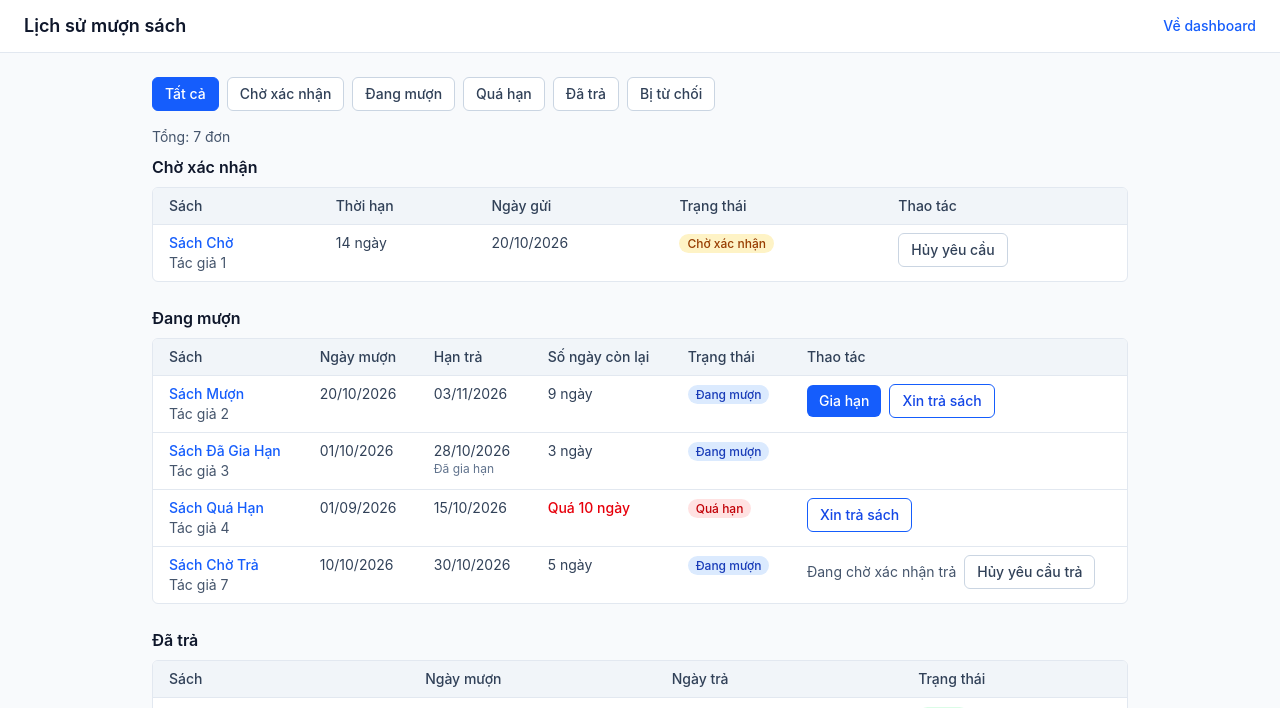
BorrowHistoryPage (2.3.3) › hủy yêu cầu chờ xác nhận sau khi hỏi lại
The width and height of the screenshot is (1280, 708).
Step 1. Click the button with aria-label "Hủy yêu cầu mượn Sách Chờ" → [953, 250], box [898,233,1008,267]
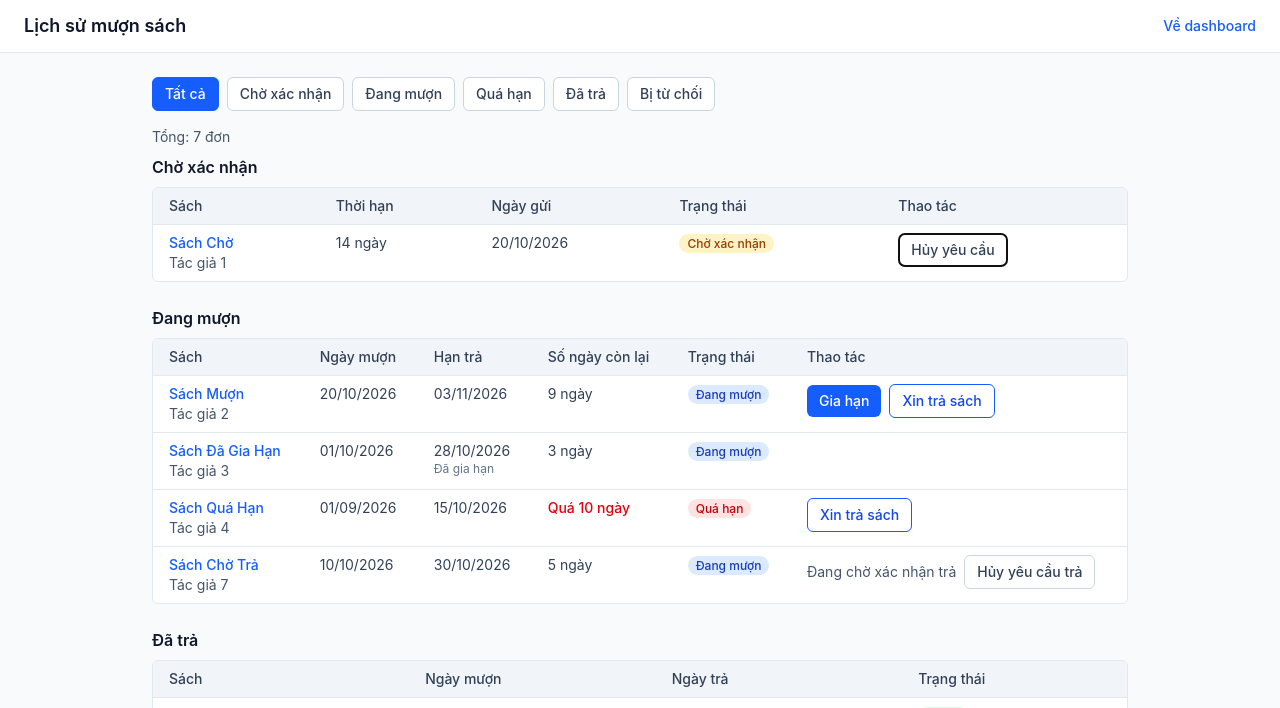
Step 2. Click the button with aria-label "Hủy yêu cầu mượn Sách Chờ" → [953, 250], box [898,233,1008,267]
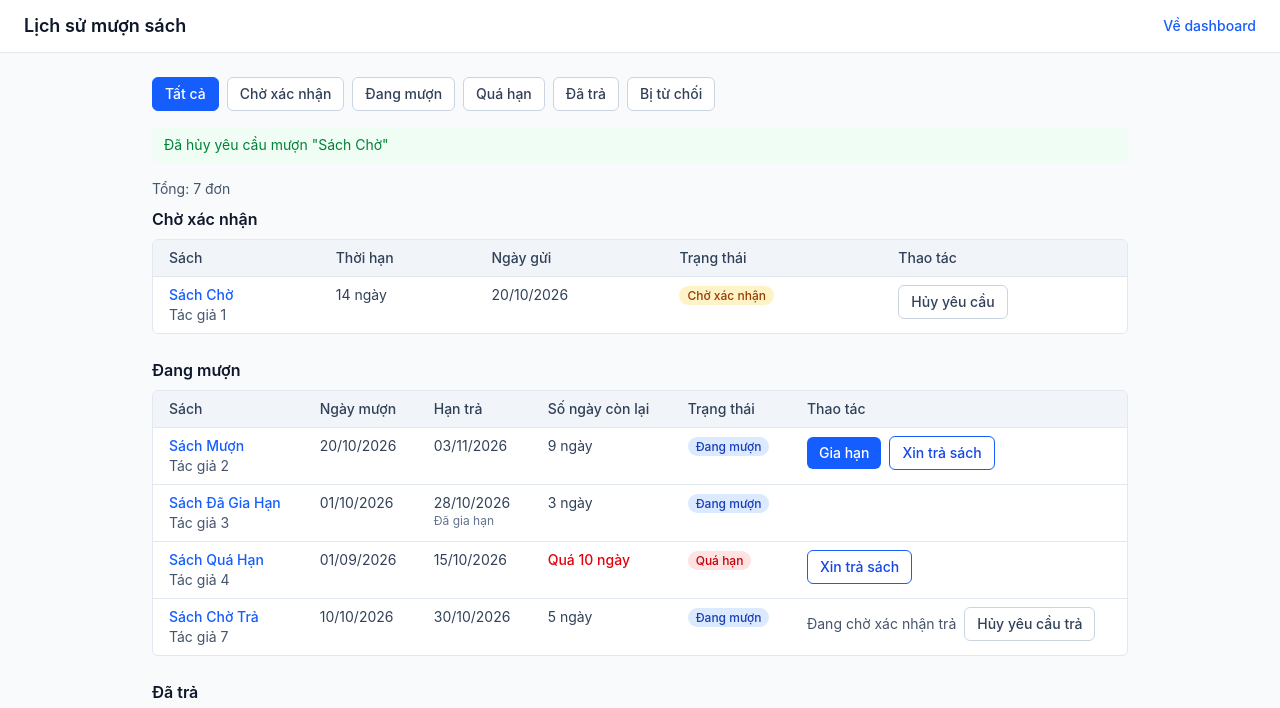
Expected: the message reads "Đã hủy yêu cầu mượn \"Sách Chờ\"", [164,136,388,153]
